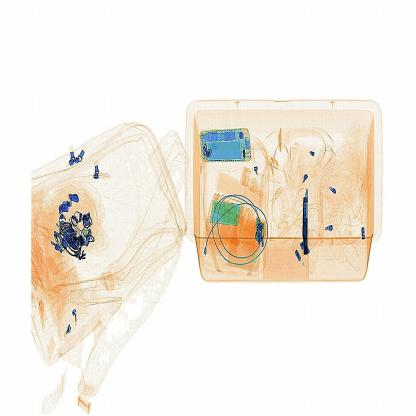pliers: (299, 188, 313, 258)
